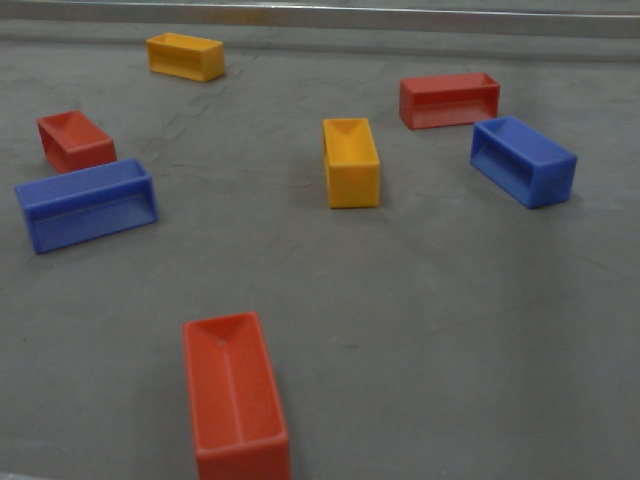BlueSample: (13, 158, 164, 254), (467, 113, 580, 213)
RedSample: (175, 308, 292, 480), (397, 71, 502, 130), (33, 110, 119, 174)
YellowSample: (319, 114, 387, 212), (143, 29, 228, 86)
